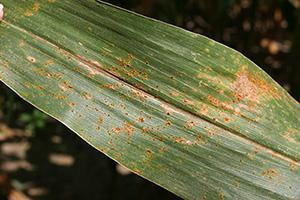Corn rust leaf: (1, 1, 300, 199)
